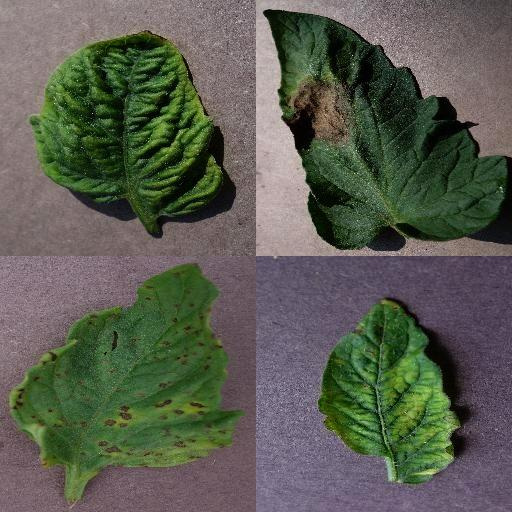Late Blight: (261, 7, 511, 251)
Mosaic Virus: (314, 297, 464, 485)
Septoria: (11, 262, 244, 470)
Yellow Leaf Curl Virus: (28, 28, 226, 218)
